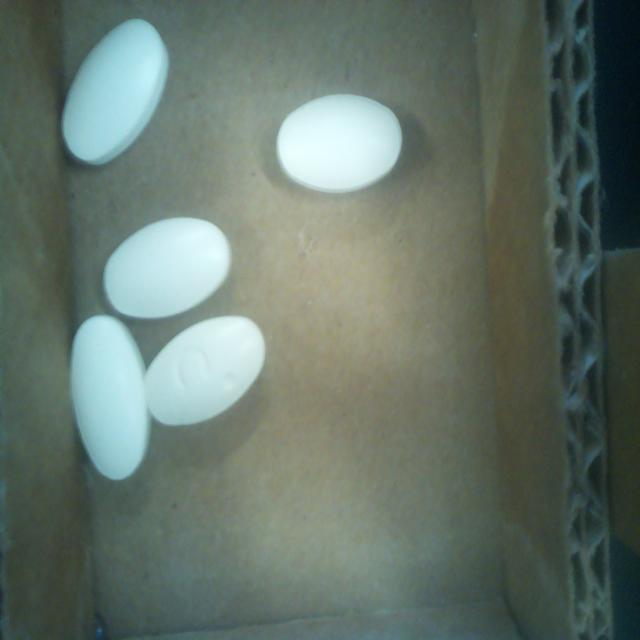pill: (61, 19, 169, 166), (145, 316, 265, 426), (70, 315, 150, 480), (105, 218, 231, 319), (276, 94, 403, 194)
